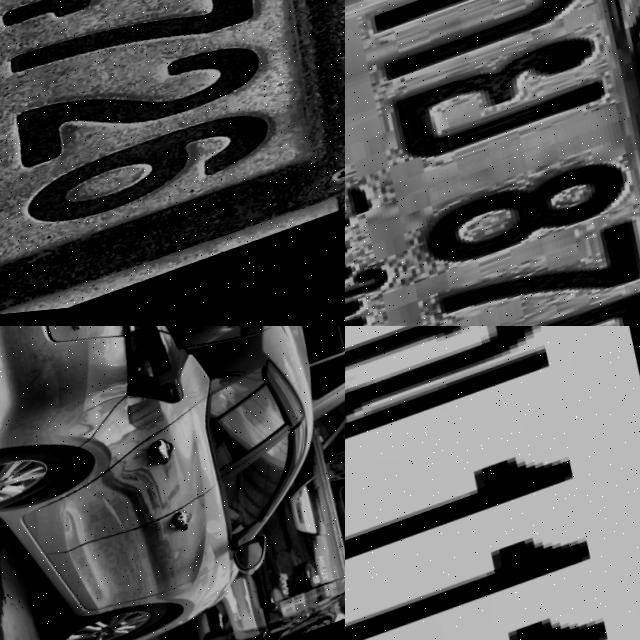license-plate: (0, 0, 345, 326), (345, 0, 640, 326), (345, 326, 640, 640)
